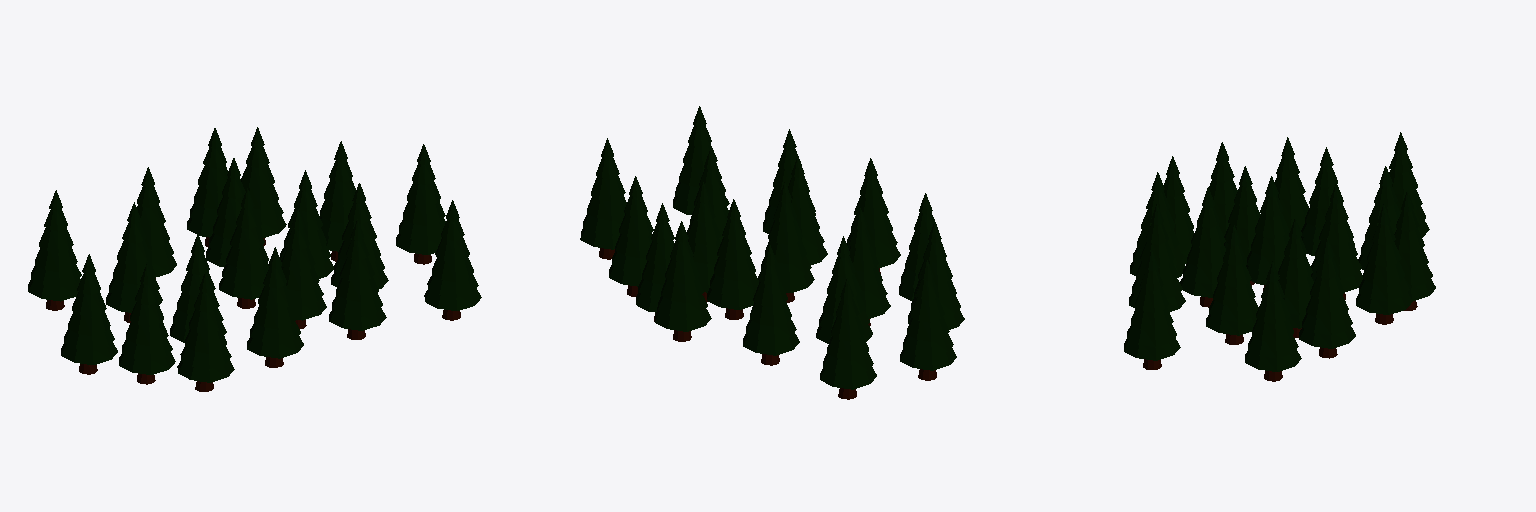
File: arbol.obj
3 views of the same model, side by side, from view 1: azimuth 30°, elevation 25°; view 2: azimuth 150°, elevation 25°; view 3: azimuth 270°, elevation 25° (orthographic).
Visible parts, largest first — view 1: Cylinder.003, Cylinder.016, Cylinder.015, Cylinder.017, Cylinder.018, Cylinder.005, Cylinder.001, Cylinder.013, Cylinder.012, Cylinder.009, Cylinder.007, Cylinder.011 (+7 smaller); view 2: Cylinder, Cylinder.014, Cylinder.001, Cylinder.015, Cylinder.010, Cylinder.012, Cylinder.004, Cylinder.013, Cylinder.016, Cylinder.006, Cylinder.011, Cylinder.008 (+7 smaller); view 3: Cylinder.004, Cylinder.011, Cylinder.012, Cylinder.017, Cylinder.002, Cylinder.009, Cylinder.013, Cylinder.010, Cylinder, Cylinder.008, Cylinder.003, Cylinder.007 (+7 smaller).
Part boxes in pixels (x1,y1,x2,y2): Cylinder.003: (329, 219, 386, 339); Cylinder.016: (247, 247, 303, 367); Cylinder.015: (61, 254, 117, 374); Cylinder.017: (424, 200, 481, 320); Cylinder.018: (119, 264, 175, 384); Cylinder.005: (177, 271, 234, 391); Cylinder.001: (28, 190, 81, 310); Cylinder.013: (219, 188, 269, 308); Cylinder.012: (396, 144, 445, 264); Cylinder.009: (281, 209, 326, 328); Cylinder.007: (106, 202, 162, 322); Cylinder.011: (241, 127, 286, 245); Cylinder: (655, 221, 711, 341); Cylinder.014: (743, 245, 799, 365); Cylinder.001: (820, 278, 876, 399); Cylinder.015: (900, 260, 956, 380); Cylinder.010: (707, 199, 758, 319); Cylinder.012: (580, 138, 626, 259); Cylinder.004: (609, 176, 653, 296); Cylinder.013: (758, 182, 814, 302); Cylinder.016: (847, 158, 900, 273); Cylinder.006: (849, 208, 890, 325); Cylinder.011: (636, 203, 674, 321); Cylinder.008: (687, 182, 720, 301); Cylinder.004: (1299, 238, 1355, 358); Cylinder.011: (1356, 204, 1412, 324); Cylinder.012: (1245, 261, 1301, 381); Cylinder.017: (1124, 250, 1180, 369); Cylinder.002: (1206, 225, 1258, 344); Cylinder.009: (1180, 187, 1225, 307); Cylinder.013: (1246, 176, 1289, 290); Cylinder.010: (1311, 183, 1362, 299); Cylinder: (1394, 191, 1435, 310); Cylinder.008: (1278, 218, 1313, 337); Cylinder.003: (1129, 204, 1185, 311); Cylinder.007: (1301, 147, 1354, 255).
Bounding box in the file's own units: 5.6 × 2.21 × 4.02.